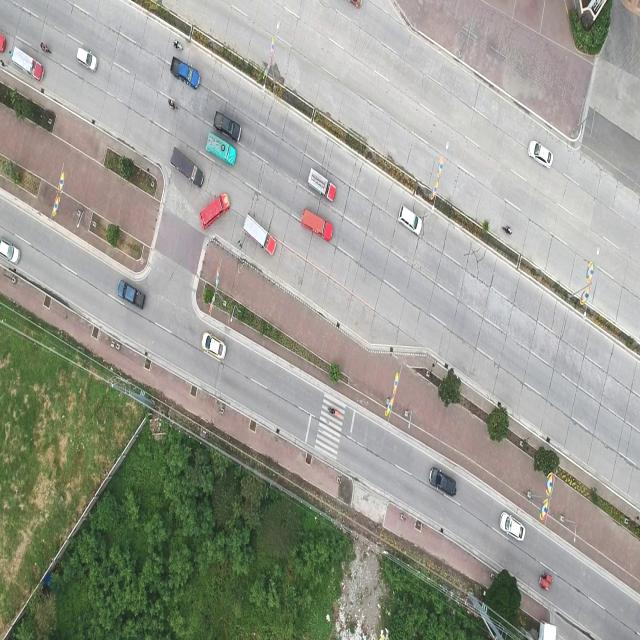Car: (428, 465, 457, 497), (498, 510, 526, 543), (397, 204, 424, 238), (527, 138, 554, 169), (202, 331, 228, 361), (76, 45, 99, 74), (0, 237, 22, 264)
Cycle: (538, 572, 553, 592), (327, 405, 340, 419), (40, 42, 52, 55), (172, 39, 184, 51), (168, 99, 179, 111), (501, 225, 513, 236)
Truck: (241, 212, 278, 258), (170, 147, 205, 190), (199, 190, 232, 233), (10, 44, 46, 82), (300, 206, 334, 245), (306, 165, 338, 205), (212, 109, 244, 145), (206, 132, 237, 168), (169, 56, 201, 90), (117, 279, 146, 311)
